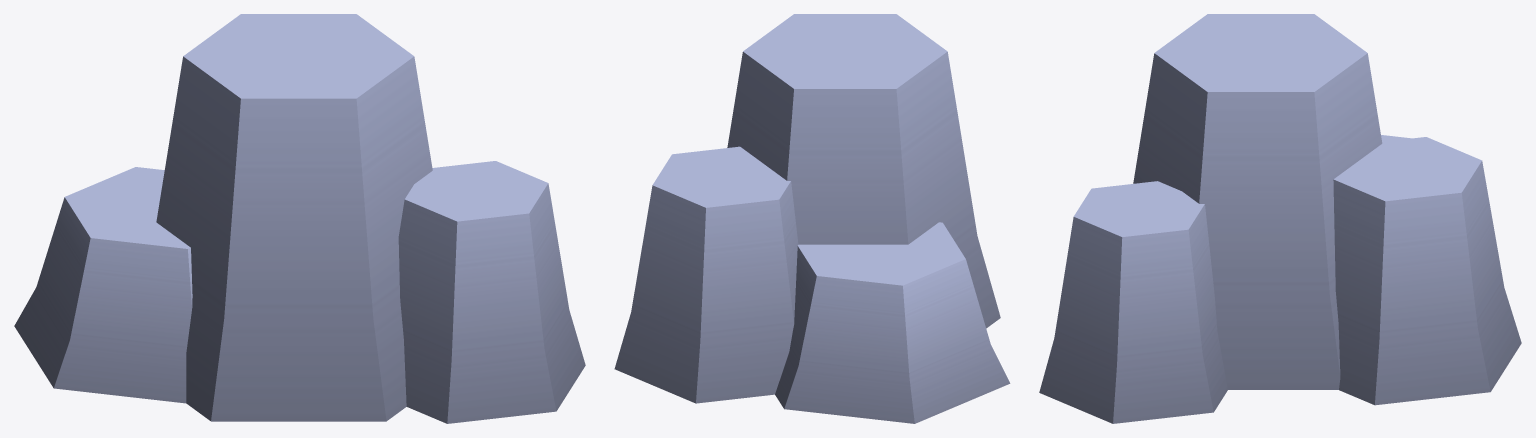
File: rocks-tall.glb
The picture shows the model from 3 angles, left to right: view 1: azimuth 30°, elevation 25°; view 2: azimuth 150°, elevation 25°; view 3: azimuth 270°, elevation 25°; orthographic projection. The views are drawn at different scales.
Parts seen in each view (by area): view 1: Asset3DLoader.sceneRoot; view 2: Asset3DLoader.sceneRoot; view 3: Asset3DLoader.sceneRoot.
Boxes of the visible parts, x1,y1,x2,y2 form: Asset3DLoader.sceneRoot: (14,14,585,423); Asset3DLoader.sceneRoot: (614,14,1010,423); Asset3DLoader.sceneRoot: (1039,14,1521,423).
Bounding box in the file's own units: 0.867 × 0.59 × 0.9289.
Materials: 1 (1 with a texture image).
